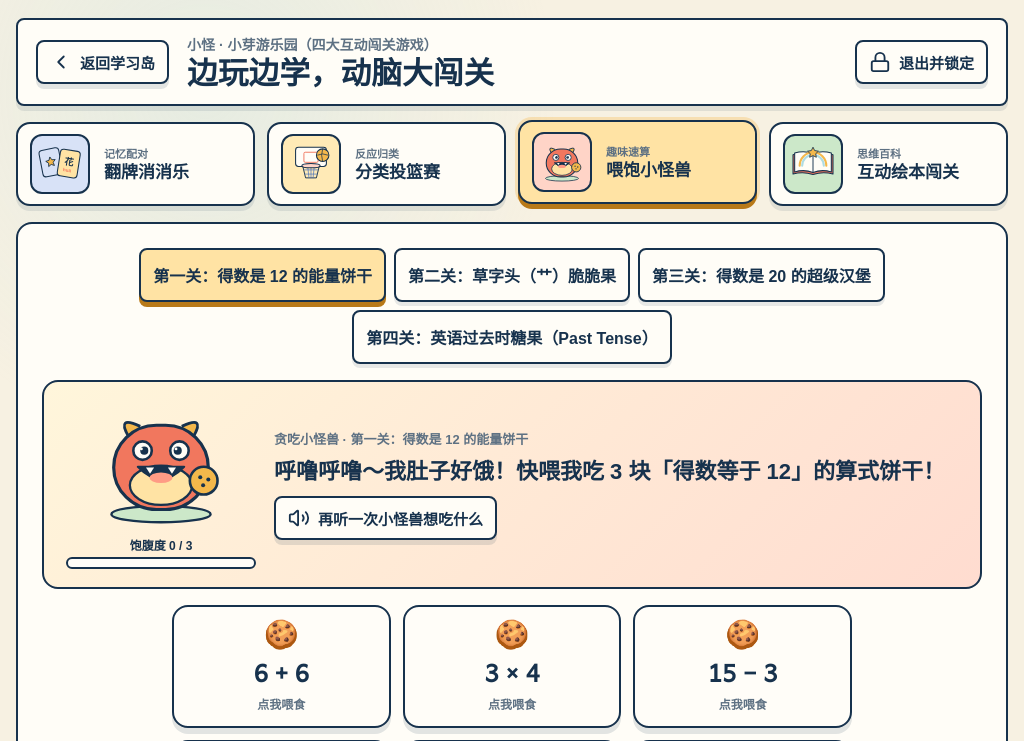
Test: ArcadeScreen (小芽游乐园四大互动小游戏) › switches to Monster Feeder and feeds 3 target foods to satisfy the monster
Click the button with test id "monster-food-f-1" at (281, 667), box x1=172 y1=605 x2=391 y2=728
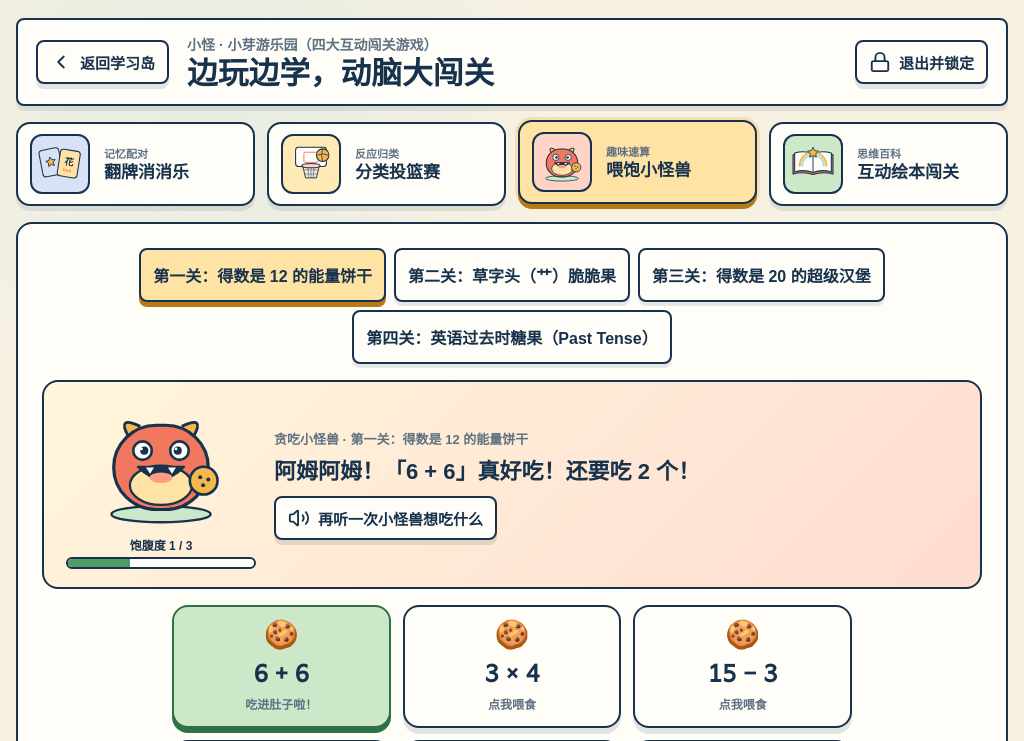
Click the button with test id "monster-food-f-2" at (512, 667), box x1=403 y1=605 x2=621 y2=728
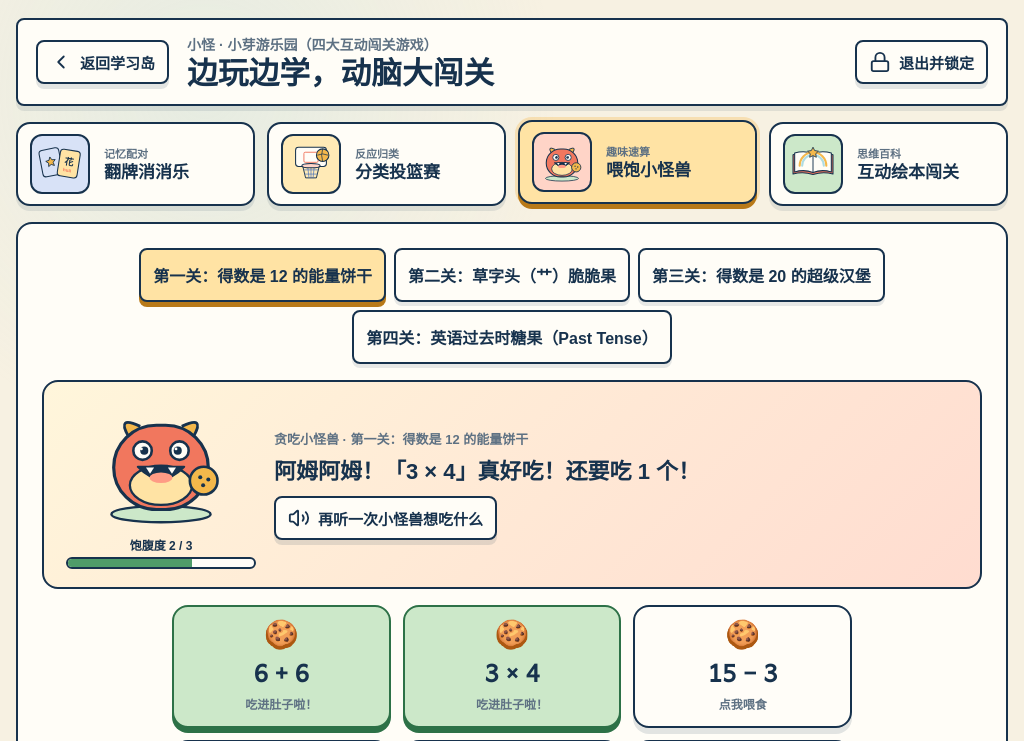
Click the button with test id "monster-food-f-3" at (743, 667), box x1=633 y1=605 x2=852 y2=728
(page scrolled)
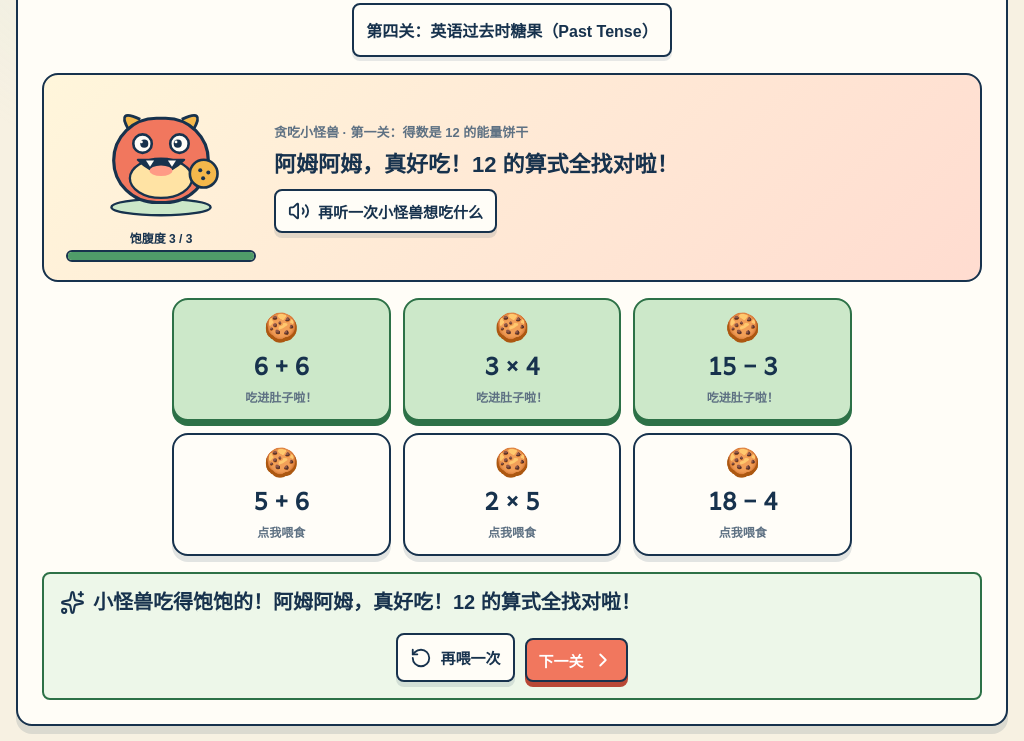
Check: the element with test id "monster-feeder-victory" is shown, box x1=42 y1=572 x2=982 y2=700
